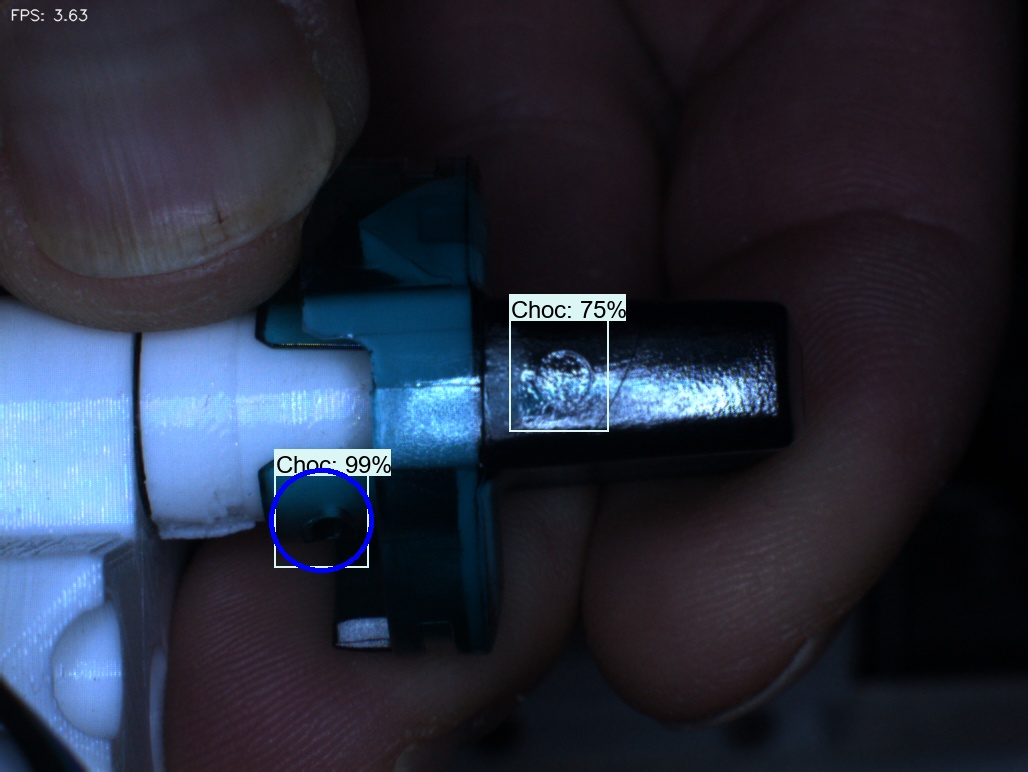DentOk: (330, 186, 408, 279)
